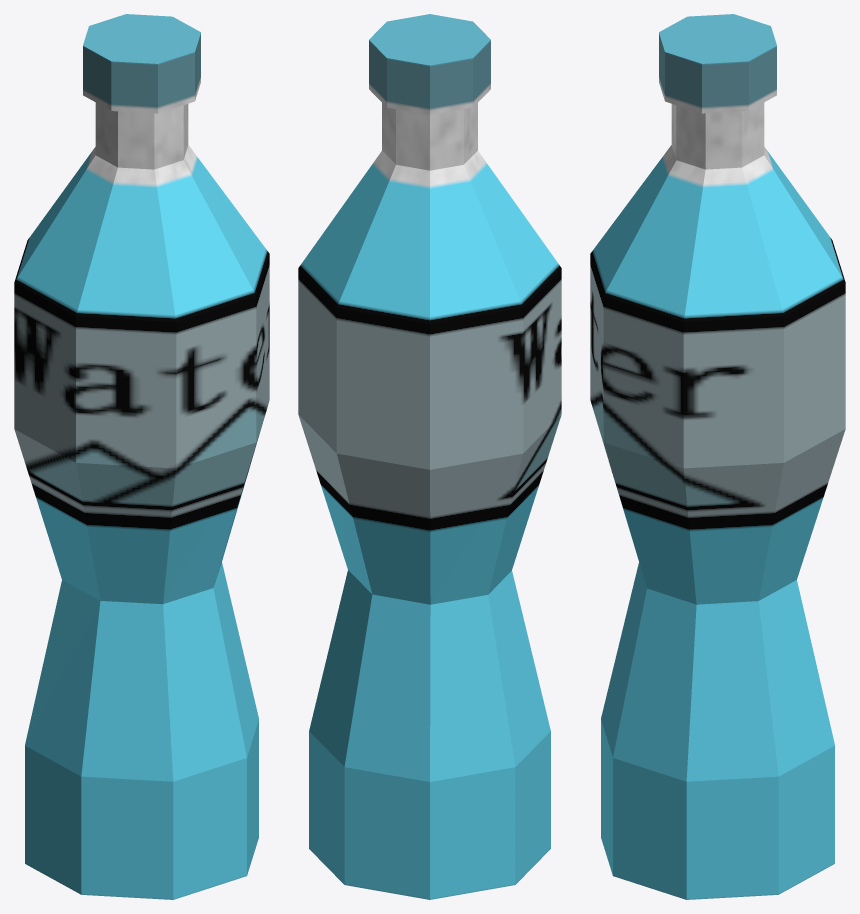
The model's file is bottle 2.FBX.
The picture shows the model from 3 angles, left to right: view 1: azimuth 30°, elevation 25°; view 2: azimuth 150°, elevation 25°; view 3: azimuth 270°, elevation 25°; orthographic projection.
Parts seen in each view (by area): view 1: 礦泉水004; view 2: 礦泉水004; view 3: 礦泉水004.
Part boxes in pixels (x1=…): 礦泉水004: x1=14, y1=14, x2=269, y2=899; 礦泉水004: x1=298, y1=14, x2=561, y2=899; 礦泉水004: x1=590, y1=14, x2=845, y2=899.
Size of the model in its own units: 37.03 by 130 by 37.03.
Materials: 1 (1 with a texture image).
